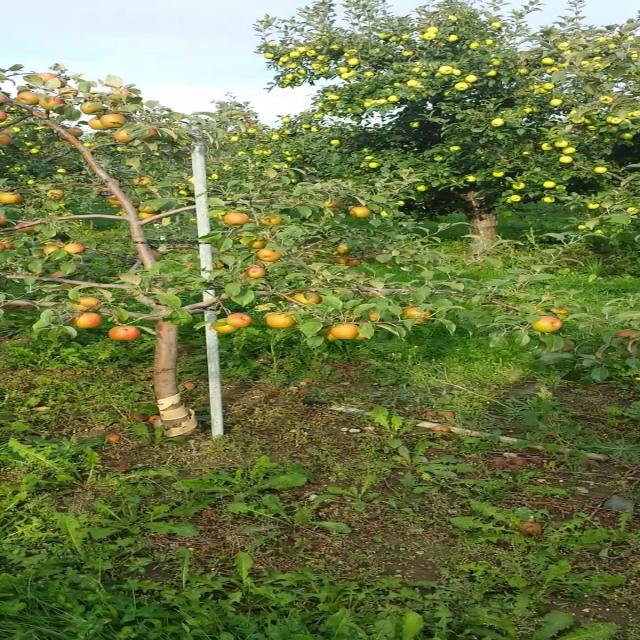apple: (264, 311, 297, 329), (530, 315, 562, 333), (107, 325, 143, 341), (70, 296, 103, 312), (331, 324, 360, 341), (71, 312, 101, 328), (401, 307, 430, 323), (100, 113, 126, 129), (212, 318, 238, 334), (226, 312, 252, 328), (38, 96, 67, 110), (222, 212, 250, 226), (256, 249, 283, 263), (292, 292, 322, 304), (87, 114, 109, 130), (114, 128, 135, 144), (80, 101, 103, 115), (16, 91, 38, 105), (319, 326, 338, 342), (36, 73, 58, 85), (1, 192, 23, 204), (110, 89, 132, 101), (246, 267, 268, 279), (260, 213, 282, 225), (350, 206, 372, 218), (58, 86, 79, 98), (44, 188, 64, 200), (16, 222, 36, 234), (64, 243, 85, 253), (547, 308, 568, 318), (247, 239, 266, 249), (613, 329, 634, 338), (108, 195, 125, 206), (136, 212, 159, 220), (65, 128, 83, 138), (322, 198, 340, 208), (132, 176, 154, 184), (139, 205, 161, 213), (145, 125, 158, 138), (150, 250, 164, 262), (332, 257, 350, 265), (345, 259, 362, 267), (0, 134, 11, 146), (1, 93, 11, 105), (337, 243, 349, 253), (368, 312, 380, 322), (239, 270, 250, 280), (2, 108, 8, 124), (354, 334, 370, 340), (1, 214, 9, 225), (1, 241, 12, 249), (1, 131, 11, 139), (51, 271, 64, 277), (0, 244, 6, 252)
